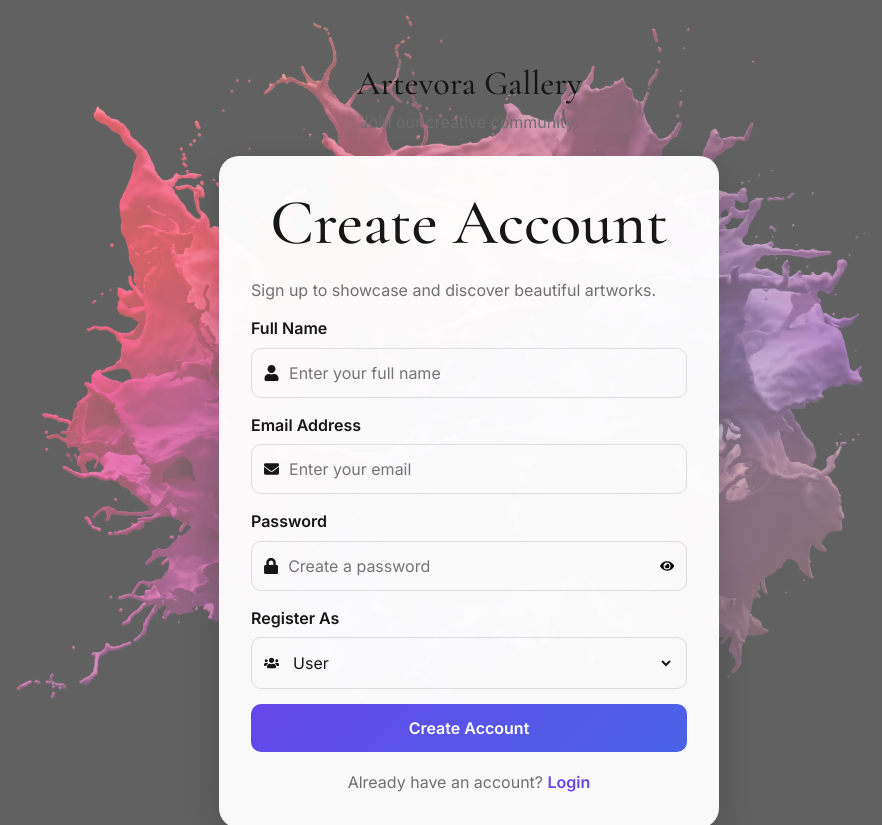
Login page › should show validation error when register fields are empty
Step 1. Click the button "Create Account" → (469, 728), box left=251, top=704, right=687, bottom=752
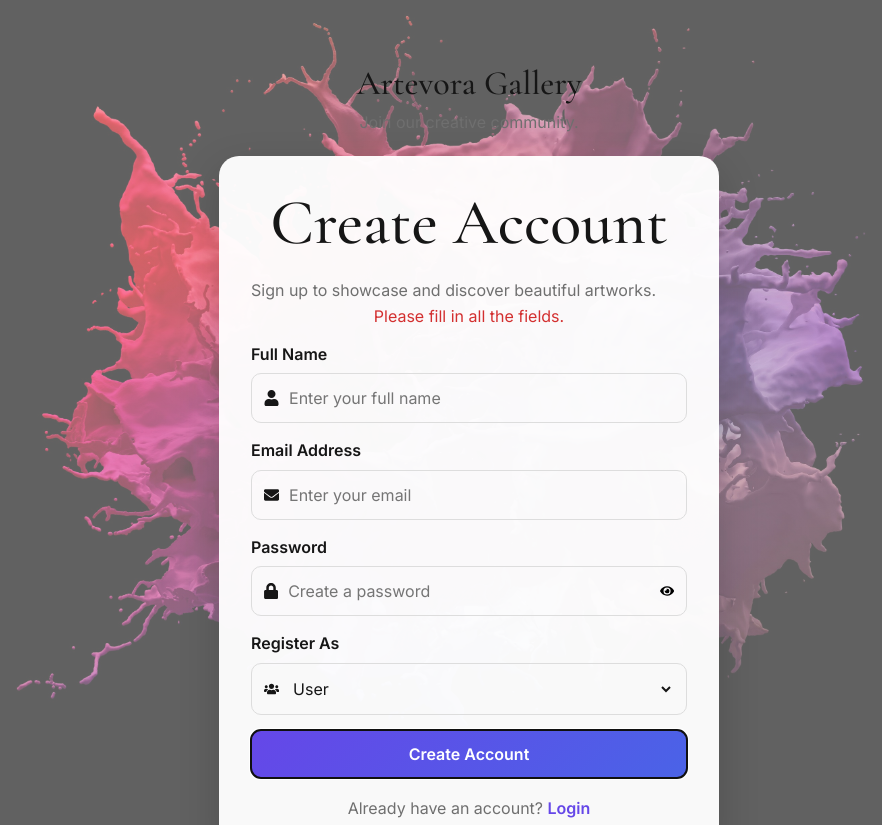
Result: the text "Please fill in all the fields." is shown at left=374, top=306, right=564, bottom=326
